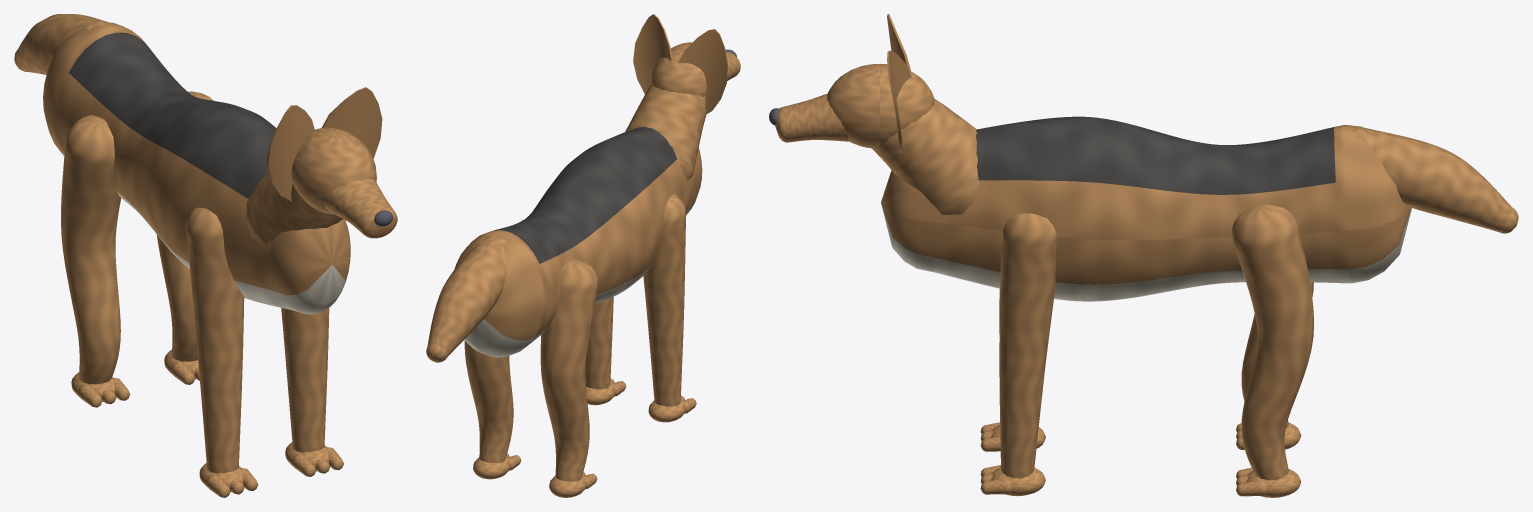
The model's file is pets-and-companions-hd-german-shepherd-1cf70c67__28130.glb.
3 renders of one model, left to right at view 1: azimuth 30°, elevation 25°; view 2: azimuth 150°, elevation 25°; view 3: azimuth 270°, elevation 25°, orthographic. The views are drawn at different scales.
Parts seen in each view (by area): view 1: german-shepherd; view 2: german-shepherd; view 3: german-shepherd.
Part boxes in pixels (x1,y1,x2,y2): german-shepherd: [14, 14, 397, 497]; german-shepherd: [426, 14, 740, 497]; german-shepherd: [769, 14, 1518, 497].
Size of the model in its own units: 0.2882 by 0.79 by 1.22.
4 materials, 3 textured.
